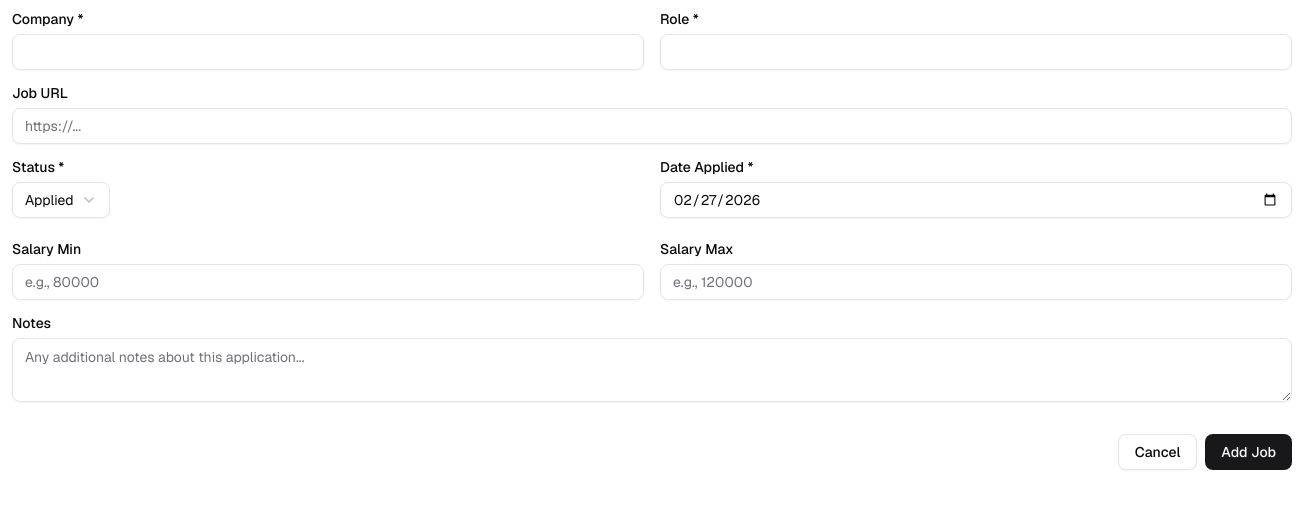
Test case: JobForm › shows validation error for invalid URL
Type "invalid-url" into the field labelled "Job URL".
click(652, 126); type("invalid-url")  # box [12, 108, 1292, 144]
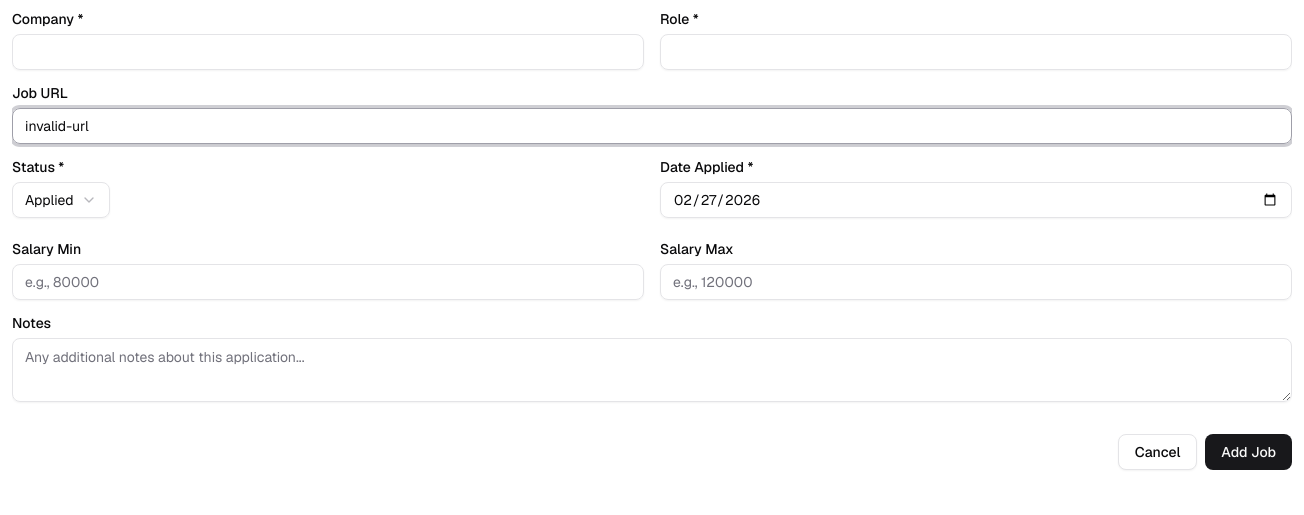
Leave the field labelled "Job URL", box [12, 108, 1292, 144]
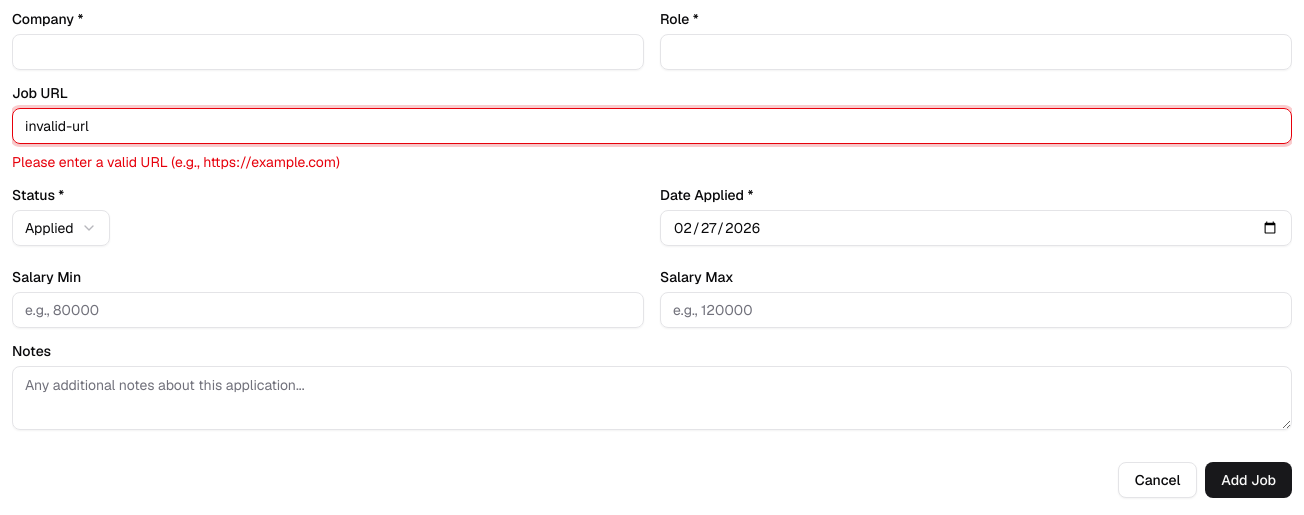
Now the text "Please enter a valid URL (e.g., https://example.com)" is shown, box [12, 153, 340, 171]
